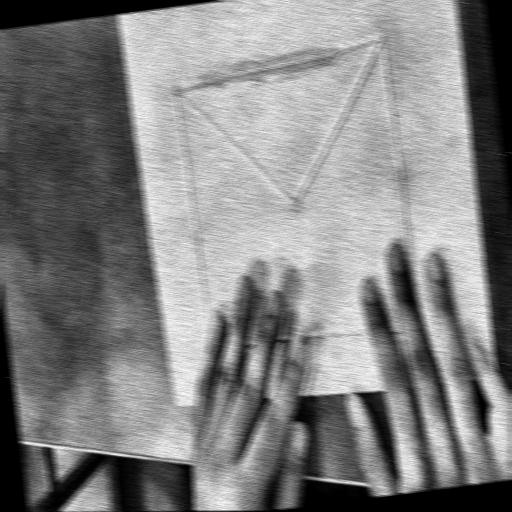bottom_left: (490, 368, 499, 379)
bottom_right: (172, 400, 180, 409)
envelop: (166, 30, 437, 372)
